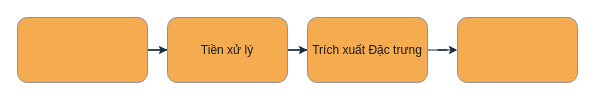
This 595x100 diagram has some shape labels left out. The shapes that lost their labels are listed below. From the top down, each one's box as (x1, y1, x2, y2) in pixels, then its label:
(16, 16, 148, 82): Thu nhận Dữ liệu
(456, 16, 578, 82): Phân tích và Ra quyết định
